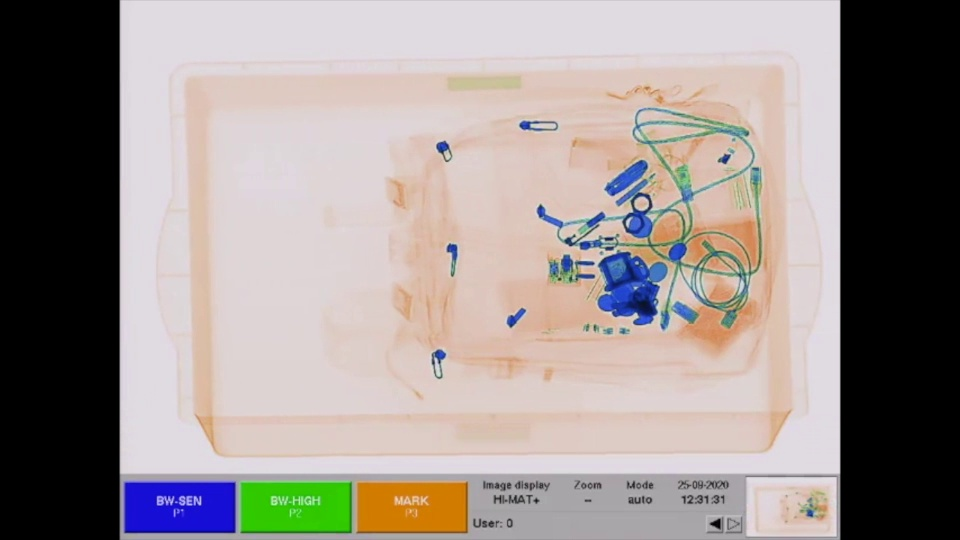tray_img: (153, 43, 827, 467)
